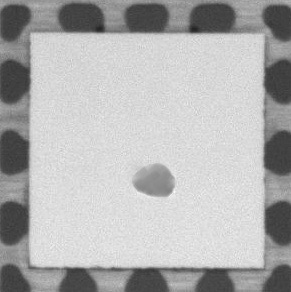DIE_INK: (127, 159, 178, 201)
